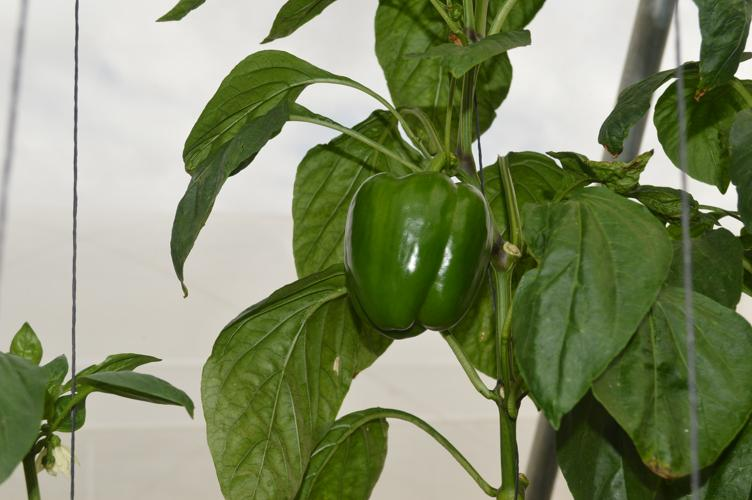BellPepper: (345, 172, 494, 338)
